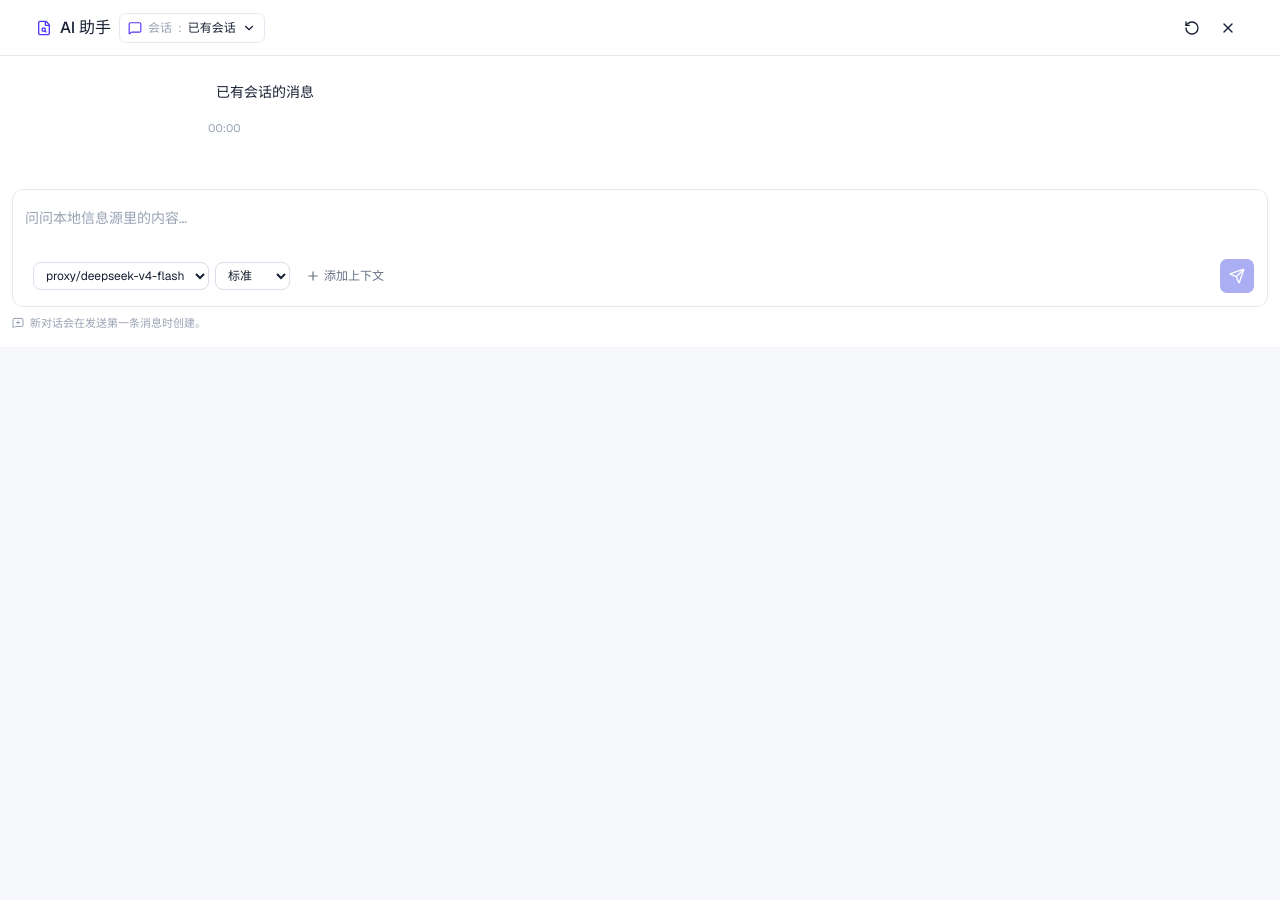
ChatWorkspace › keeps cached messages isolated when switching sessions
The width and height of the screenshot is (1280, 900).
Click the button with test id "floating-chat-session-picker".
click(192, 28)  # box [119, 12, 265, 42]
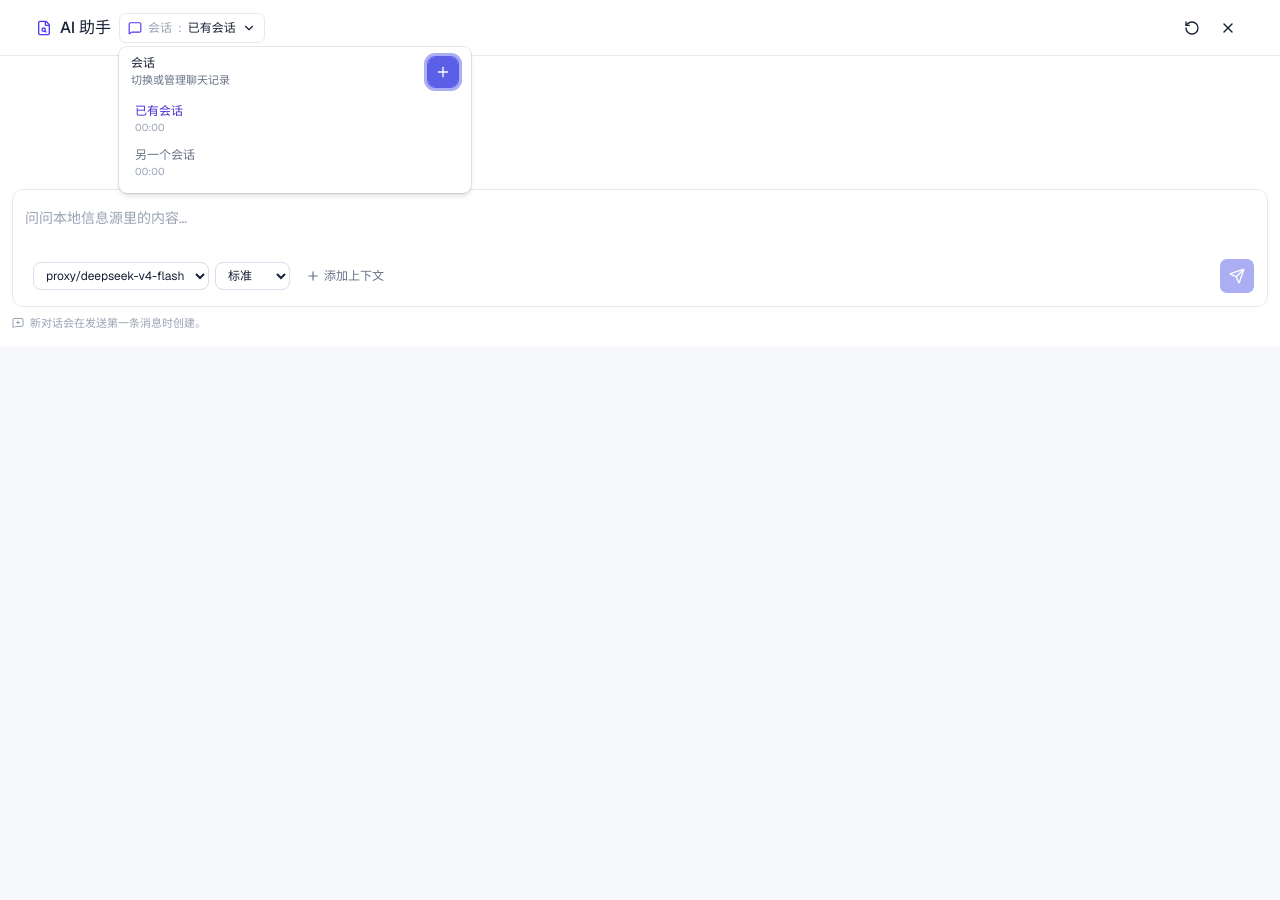
Click the button with aria-label "切换到会话：已有会话".
click(159, 111)  # box [127, 97, 407, 141]
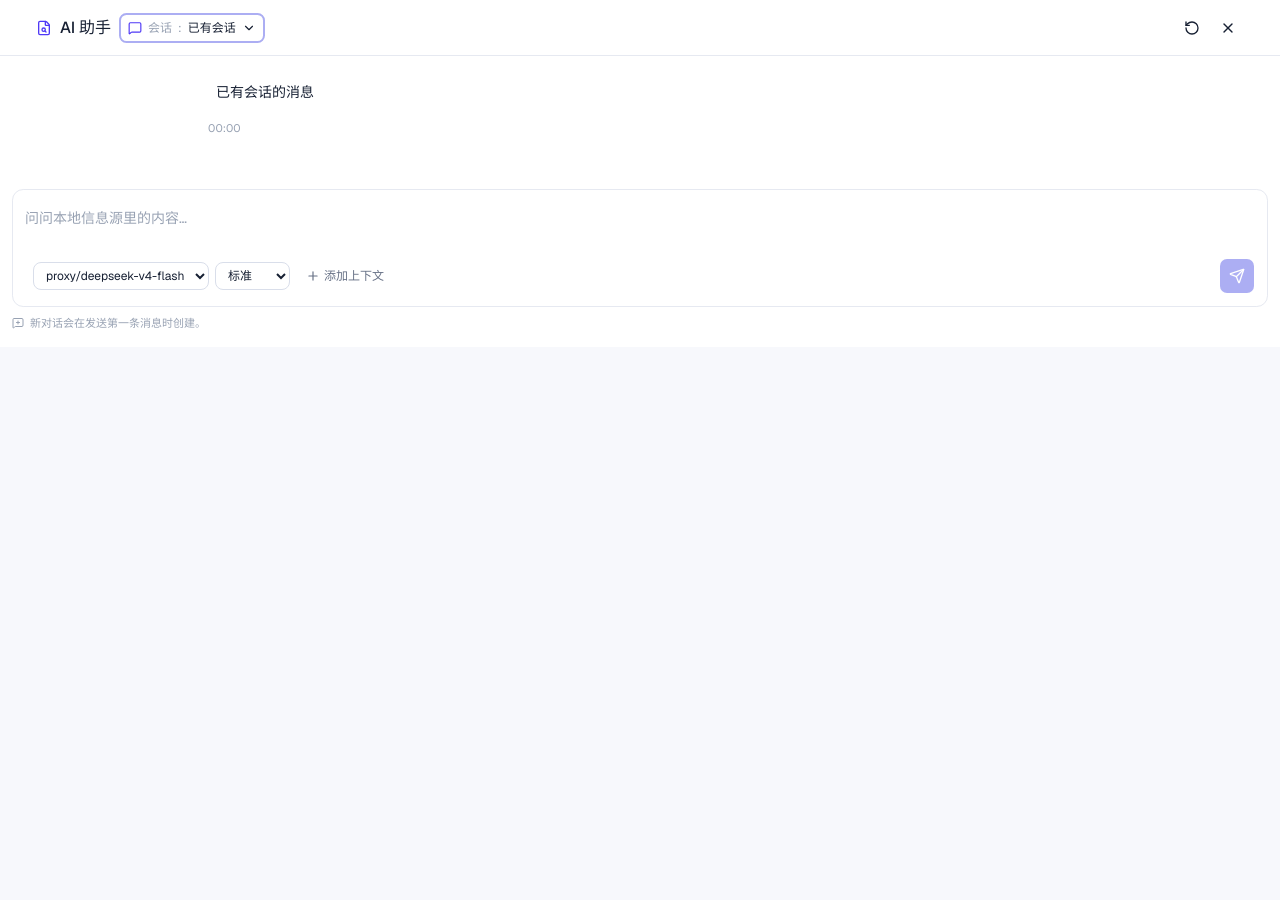
Expected: the text "已有会话的消息" is shown, [216, 83, 314, 101]
Click the button with test id "floating-chat-session-picker".
click(192, 28)  # box [119, 12, 265, 42]
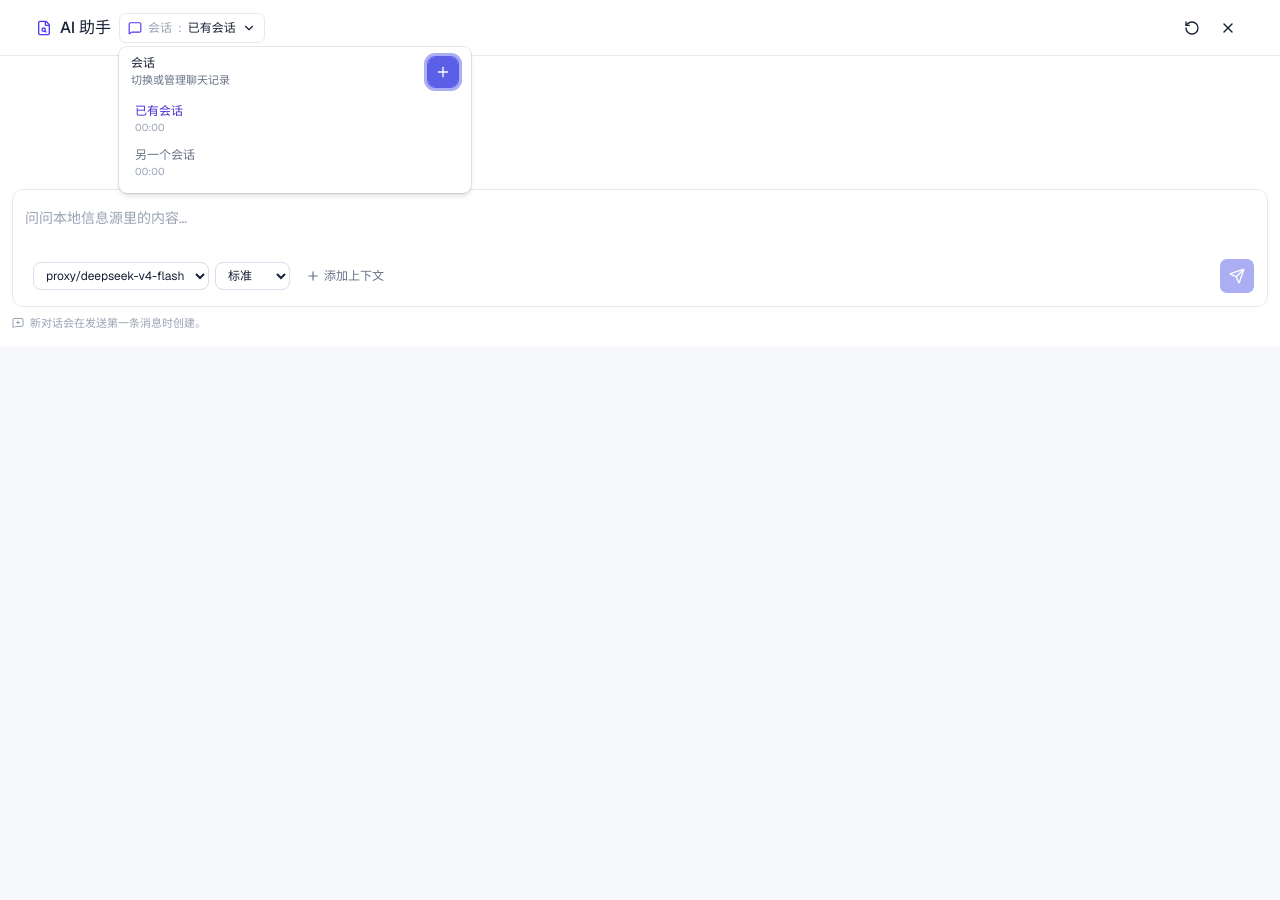
Click the button with aria-label "切换到会话：另一个会话".
click(165, 155)  # box [127, 141, 407, 185]
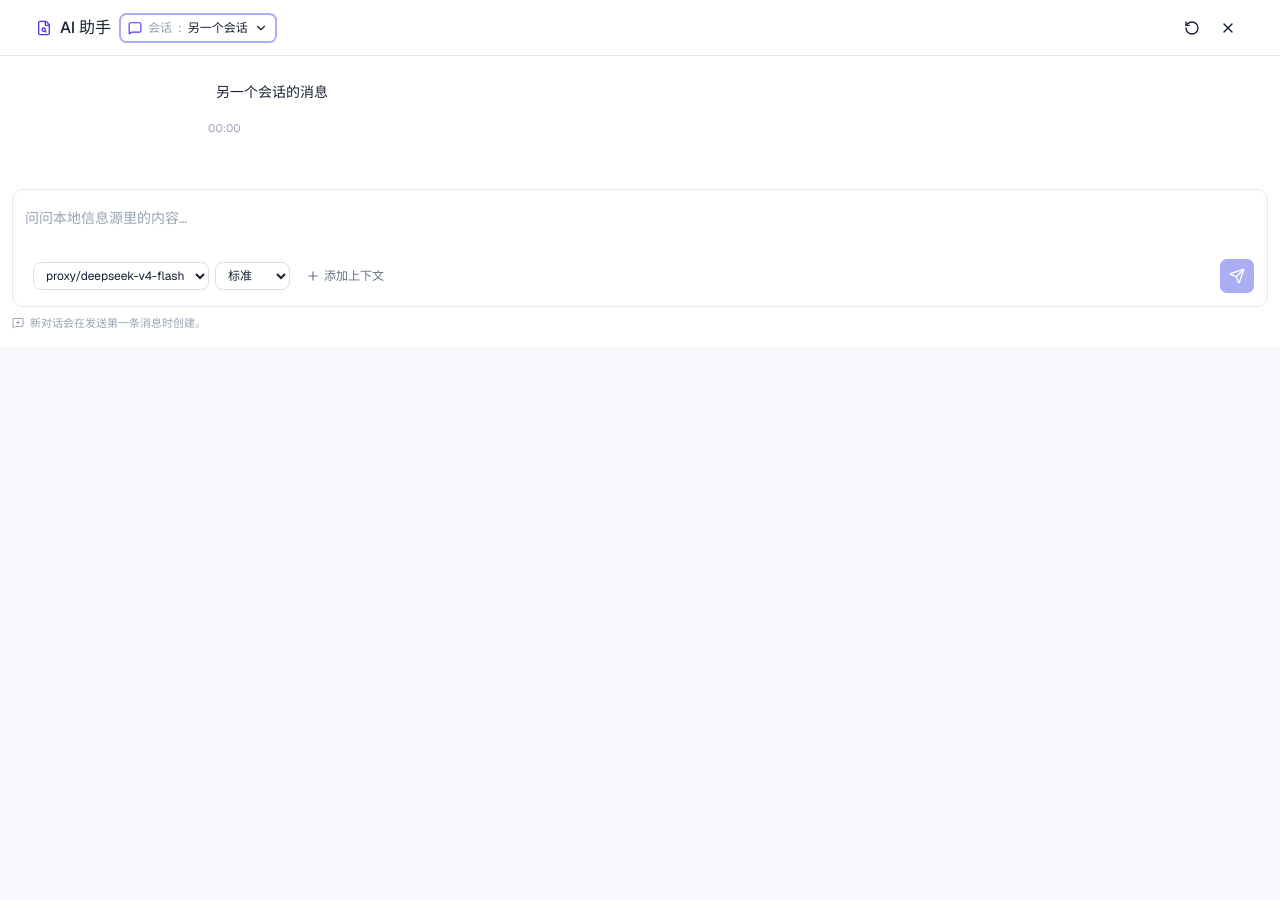
Expected: the text "另一个会话的消息" is shown, [216, 83, 328, 101]
Expected: the text "已有会话的消息" is gone
